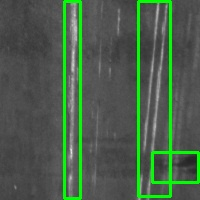inclusion: (152, 152, 198, 182)
scratches: (138, 1, 170, 196), (64, 1, 80, 198)
